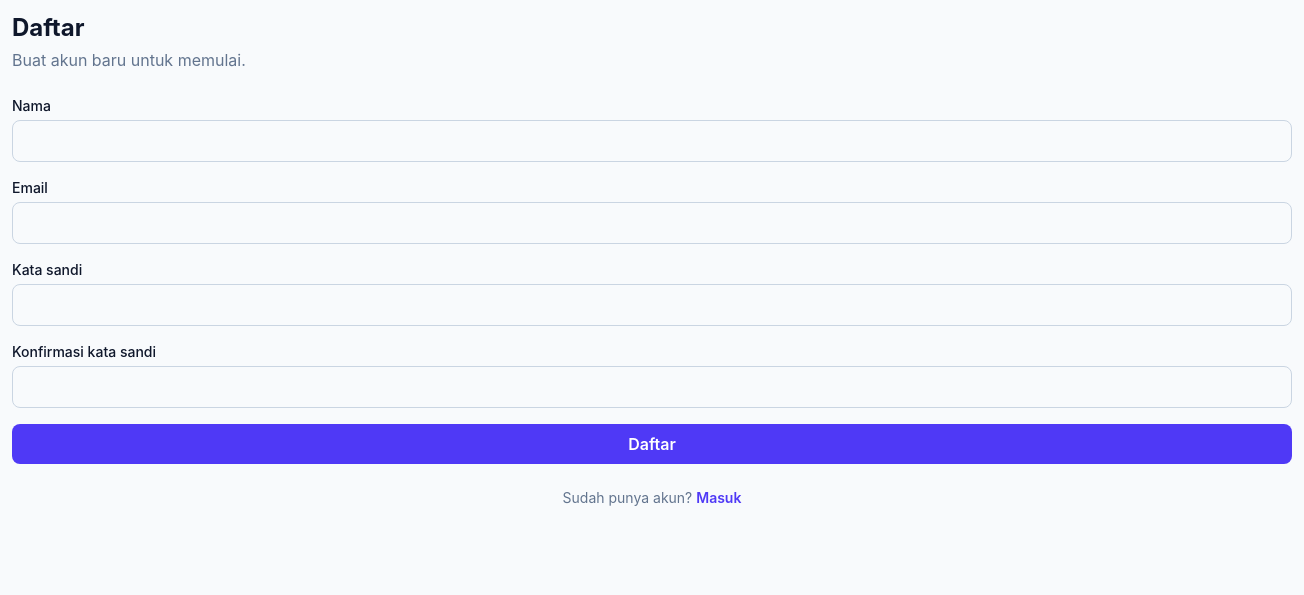
Test: RegisterPage › menampilkan pesan validasi untuk isian wajib yang kosong
The image size is (1304, 595).
Click the button "Daftar" at [652, 444], box [12,424,1292,464]
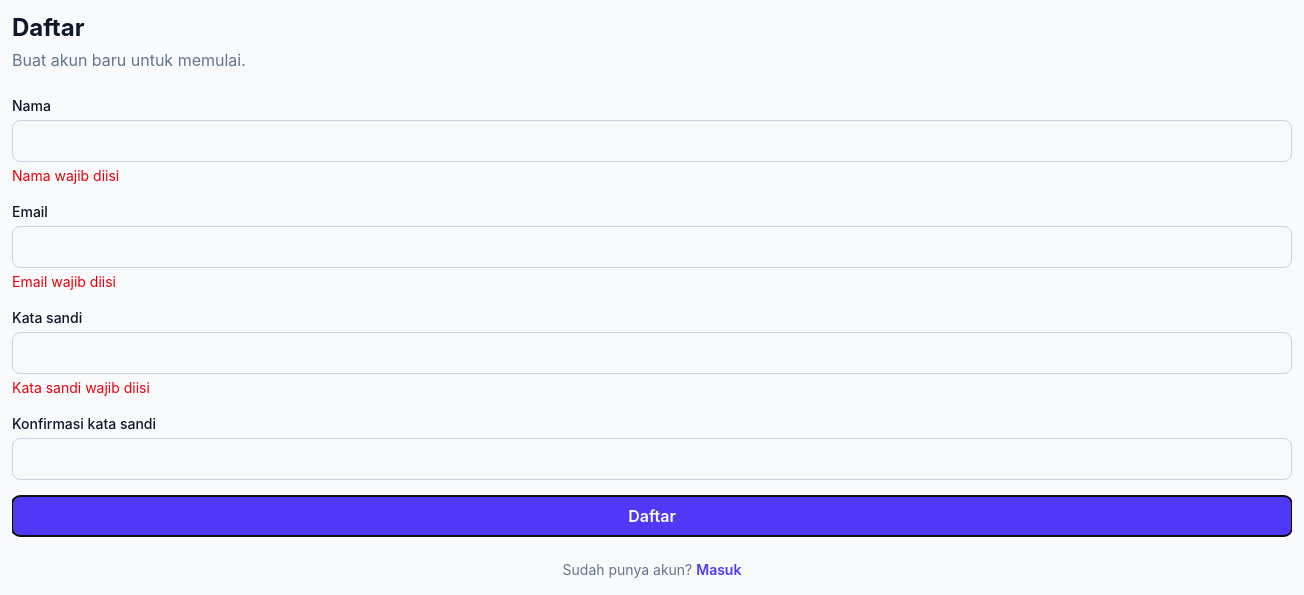
expect the text "Nama wajib diisi" is shown: met, box [12,167,119,184]
expect the text "Email wajib diisi" is shown: met, box [12,273,116,290]
expect the text "Kata sandi wajib diisi" is shown: met, box [12,379,150,396]
